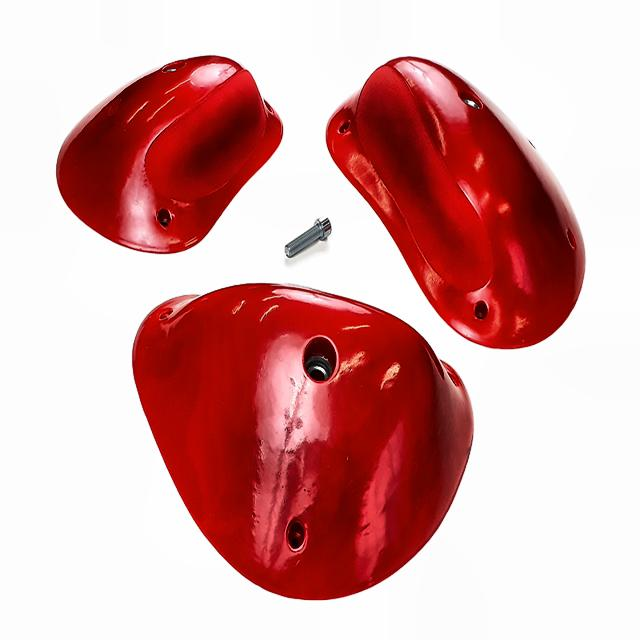Hold: (133, 284, 476, 595), (327, 52, 598, 352), (54, 60, 280, 252)
